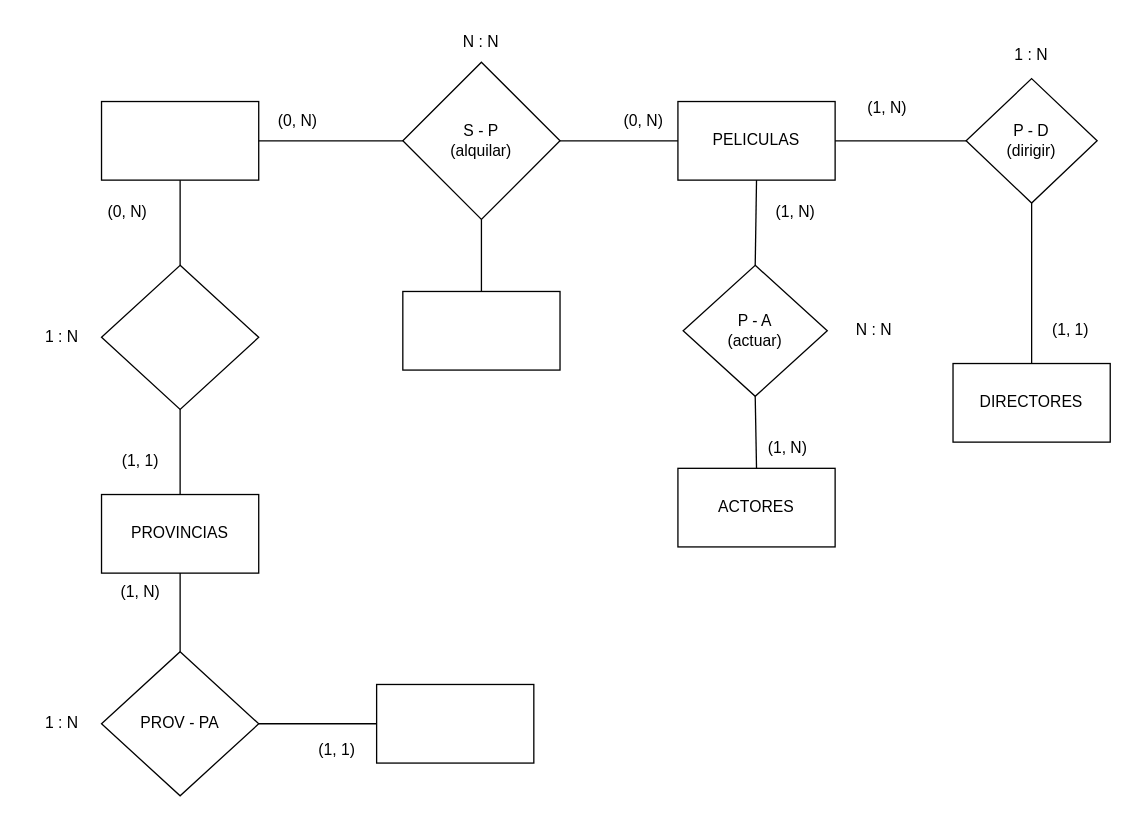
Image size: 1133x819. Some labels were removed from this diagram. Each missing label, with the centre of its shape:
ALQUILERES: point 481,330
PAISES: point 454,723
S - PROV: point 179,336
SOCIOS: point 179,140
